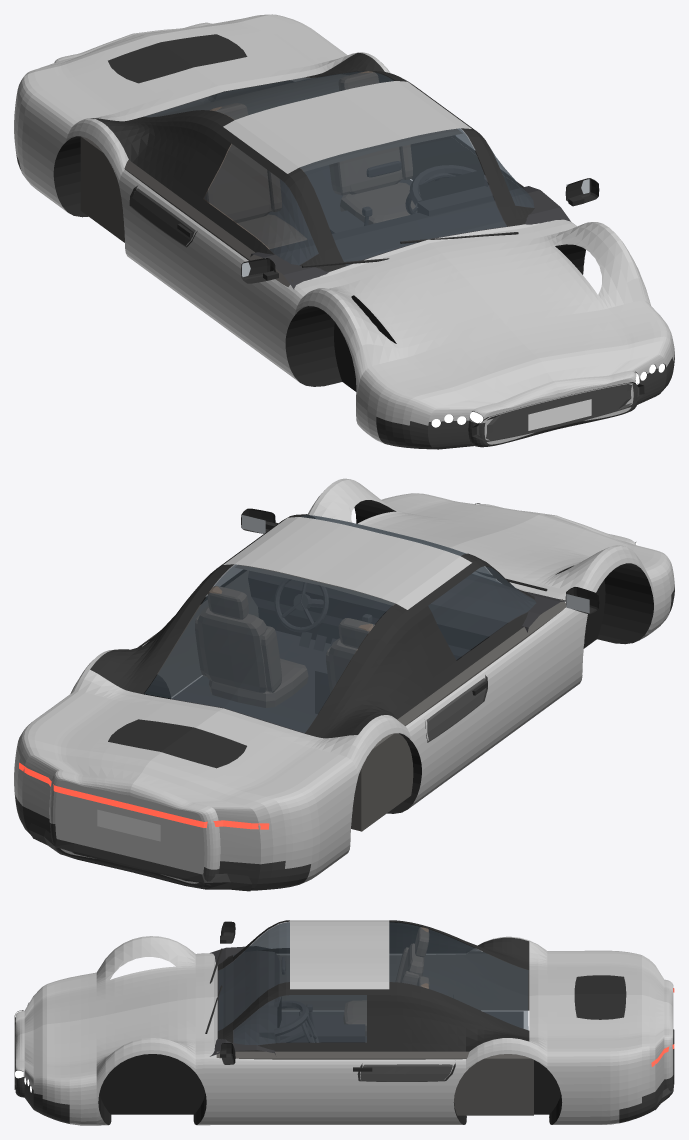
Rendered from car_zenith.fbx.
The picture shows the model from 3 angles, top to bottom: view 1: azimuth 30°, elevation 25°; view 2: azimuth 150°, elevation 25°; view 3: azimuth 270°, elevation 25°; orthographic projection. The views are drawn at different scales.
Parts seen in each view (by area): view 1: zenith__hood, zenith__glass, zenith__trunk, zenith__interior, zenith__pillars, zenith__roof, zenith__seats, zenith__cabin, zenith__doorR, zenith__quarterR, zenith__fenderFR, zenith__wells (+11 smaller); view 2: zenith__glass, zenith__trunk, zenith__hood, zenith__interior, zenith__pillars, zenith__quarterR, zenith__roof, zenith__seats, zenith__cabin, zenith__doorR, zenith__rearPanel, zenith__wells (+11 smaller); view 3: zenith__hood, zenith__glass, zenith__cabin, zenith__trunk, zenith__quarterL, zenith__doorL, zenith__pillars, zenith__interior, zenith__wells, zenith__roof, zenith__fenderFL, zenith__seals (+11 smaller).
Boxes of the visible parts, bbox=[...] form: zenith__hood: bbox=[296, 219, 660, 414]; zenith__glass: bbox=[145, 71, 534, 265]; zenith__trunk: bbox=[28, 14, 557, 282]; zenith__interior: bbox=[250, 161, 570, 289]; zenith__pillars: bbox=[100, 56, 534, 271]; zenith__roof: bbox=[223, 81, 471, 173]; zenith__seats: bbox=[203, 71, 419, 249]; zenith__cabin: bbox=[80, 74, 523, 286]; zenith__doorR: bbox=[157, 200, 283, 369]; zenith__quarterR: bbox=[14, 71, 165, 284]; zenith__fenderFR: bbox=[274, 285, 476, 443]; zenith__wells: bbox=[53, 136, 585, 391]; zenith__glass: bbox=[144, 514, 535, 732]; zenith__trunk: bbox=[28, 573, 558, 815]; zenith__hood: bbox=[313, 479, 660, 599]; zenith__interior: bbox=[171, 571, 565, 733]; zenith__pillars: bbox=[98, 514, 534, 738]; zenith__quarterR: bbox=[212, 697, 455, 883]; zenith__roof: bbox=[223, 517, 471, 609]; zenith__seats: bbox=[195, 586, 374, 707]; zenith__cabin: bbox=[138, 564, 566, 831]; zenith__doorR: bbox=[447, 609, 572, 780]; zenith__rearPanel: bbox=[49, 771, 220, 883]; zenith__wells: bbox=[143, 500, 653, 813]; zenith__hood: bbox=[15, 937, 213, 1077]; zenith__glass: bbox=[218, 922, 528, 1045]; zenith__cabin: bbox=[216, 951, 533, 1115]; zenith__trunk: bbox=[214, 941, 673, 1051]; zenith__quarterL: bbox=[403, 1037, 664, 1124]; zenith__doorL: bbox=[223, 1058, 402, 1124]; zenith__pillars: bbox=[217, 920, 529, 1046]; zenith__interior: bbox=[210, 946, 523, 1056]; zenith__wells: bbox=[98, 995, 562, 1124]; zenith__roof: bbox=[290, 920, 389, 989]; zenith__fenderFL: bbox=[24, 1038, 222, 1125]; zenith__seals: bbox=[235, 937, 529, 1051].
Bounding box in the file's own units: 2.42 × 1.09 × 5.11.
